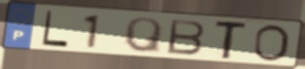1: (81, 14, 104, 49)
B: (166, 18, 208, 57)
L: (40, 9, 71, 49)
O: (251, 23, 291, 63)
Q: (122, 16, 164, 55)
T: (213, 21, 250, 61)
